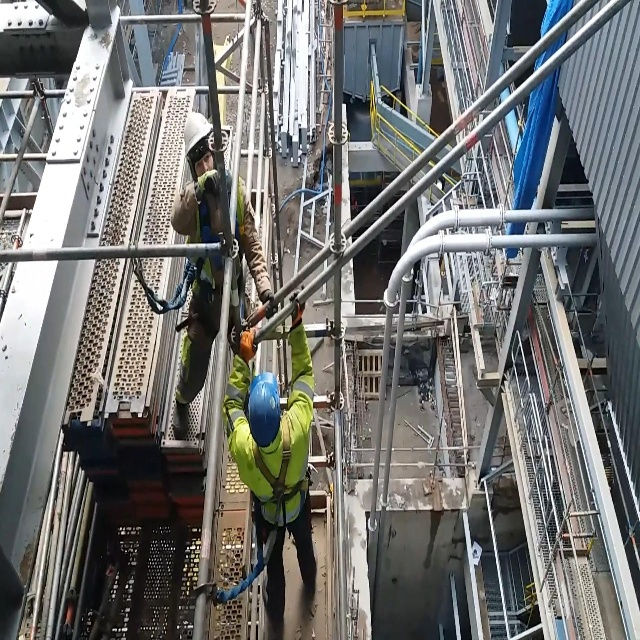Arnes_seguridad: (242, 421, 313, 553), (183, 181, 247, 322)
